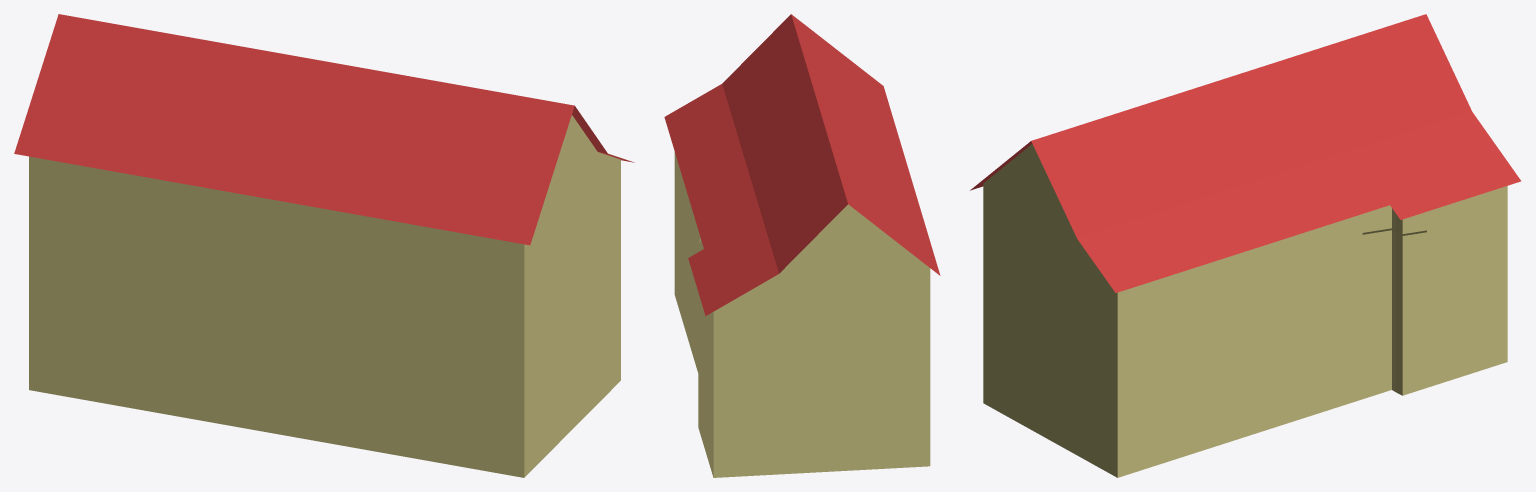
3 renders of one model, left to right at view 1: azimuth 30°, elevation 25°; view 2: azimuth 150°, elevation 25°; view 3: azimuth 270°, elevation 25°, orthographic. The views are drawn at different scales.
Size of the model in its own units: 24.62 by 27.58 by 16.32.
